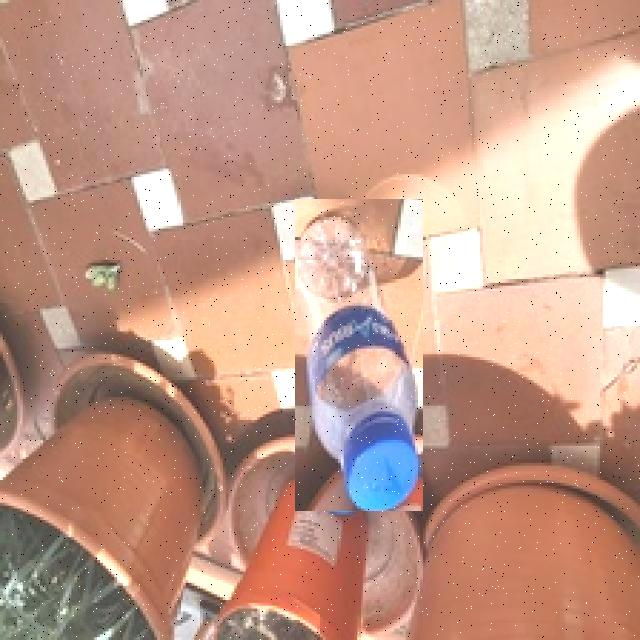bottle: (295, 199, 423, 511)
cap: (342, 410, 426, 515)
label: (304, 308, 418, 376)
